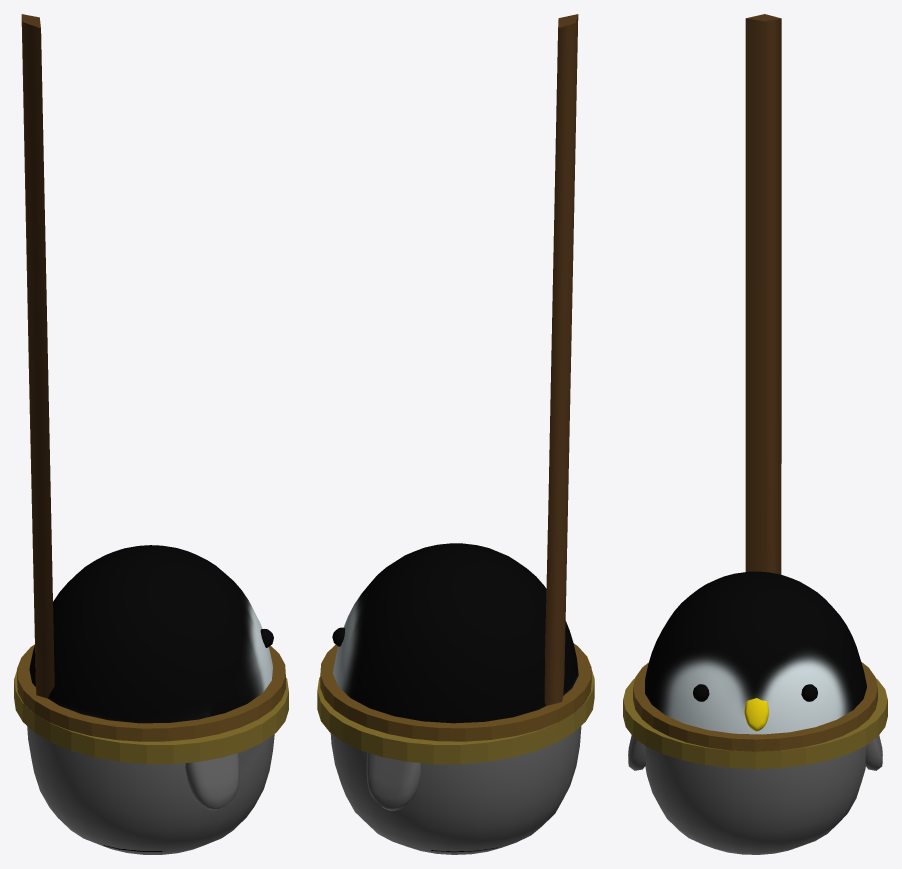
The model's file is hangingBaby.glb.
3 renders of one model, left to right at view 1: azimuth 30°, elevation 25°; view 2: azimuth 150°, elevation 25°; view 3: azimuth 270°, elevation 25°, orthographic. The views are drawn at different scales.
Parts seen in each view (by area): view 1: Body, node_id66, Cylinder, Cylinder.001, Plane; view 2: Body, node_id66, Cylinder, Cylinder.001, Plane; view 3: Body, node_id66, Cylinder, Cylinder.001, Plane, Plane.001.
Part boxes in pixels (x1,y1,x2,y2): Body: [27, 545, 274, 854]; node_id66: [21, 14, 54, 698]; Cylinder: [14, 670, 288, 763]; Cylinder.001: [17, 644, 285, 741]; Plane: [185, 752, 239, 810]; Body: [330, 543, 581, 854]; node_id66: [544, 14, 578, 705]; Cylinder: [317, 670, 594, 764]; Cylinder.001: [320, 643, 591, 741]; Plane: [366, 752, 420, 810]; Body: [645, 571, 866, 854]; node_id66: [745, 14, 781, 574]; Cylinder: [623, 678, 887, 768]; Cylinder.001: [633, 662, 877, 755]; Plane: [628, 735, 882, 770]; Plane.001: [744, 698, 768, 731].
Size of the model in its own units: 2.56 by 8.54 by 2.67.
7 materials, 1 textured.
